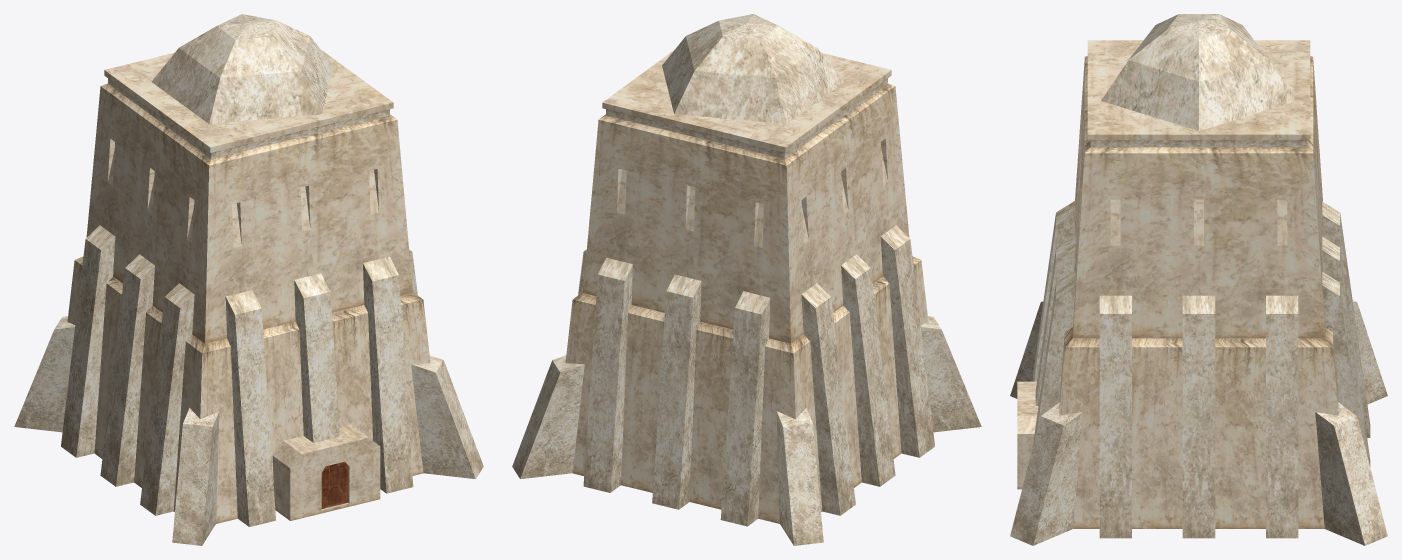
The model's file is thm_tato_imprv_building_s02_l1.fbx.
3 renders of one model, left to right at view 1: azimuth 30°, elevation 25°; view 2: azimuth 150°, elevation 25°; view 3: azimuth 270°, elevation 25°, orthographic. The views are drawn at different scales.
Parts seen in each view (by area): view 1: mesh_node; view 2: mesh_node; view 3: mesh_node.
Part boxes in pixels (box(x1,y1,x2,y2)): mesh_node: box(14, 14, 483, 545); mesh_node: box(512, 14, 981, 545); mesh_node: box(1010, 14, 1387, 545).
Size of the model in its own units: 22.7 by 29.53 by 22.7.
